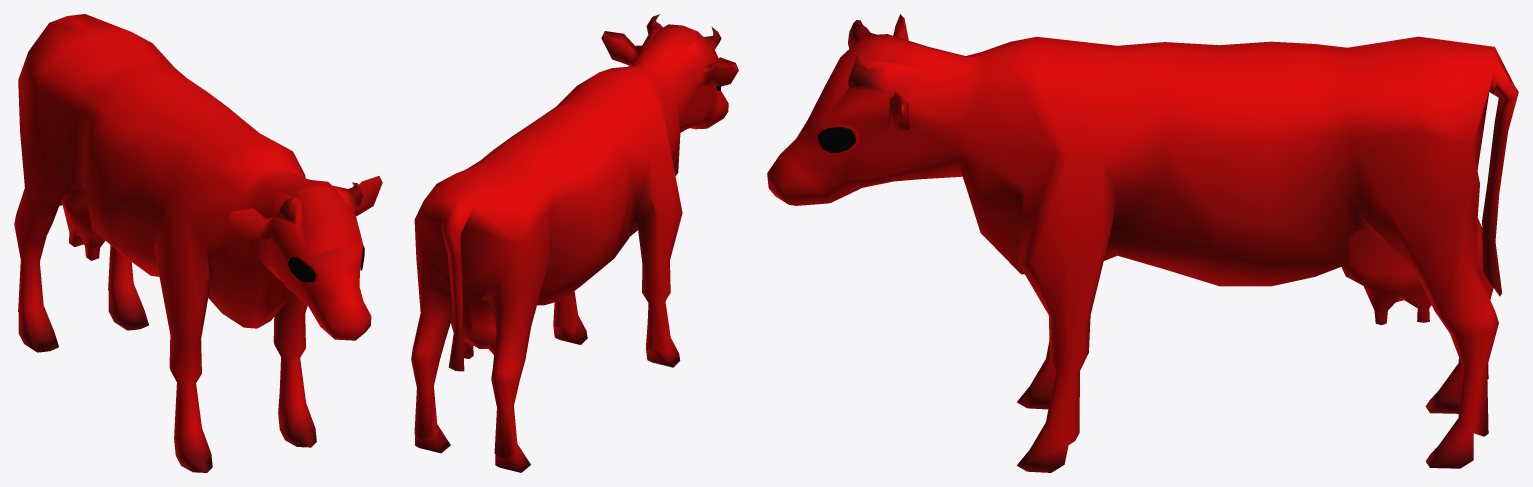
File: Animals_WhiteCow.fbx
3 views of the same model, side by side, from view 1: azimuth 30°, elevation 25°; view 2: azimuth 150°, elevation 25°; view 3: azimuth 270°, elevation 25° (orthographic). The views are drawn at different scales.
Visible parts, largest first — view 1: alt580, alt581; view 2: alt580, alt581; view 3: alt580, alt581.
Boxes of the visible parts, x1,y1,x2,y2 form: alt580: [14, 14, 382, 472]; alt581: [61, 152, 371, 339]; alt580: [411, 14, 738, 472]; alt581: [425, 24, 735, 358]; alt580: [767, 14, 1518, 472]; alt581: [767, 14, 1431, 325].
Bounding box in the file's own units: 66.62 × 131 × 226.
